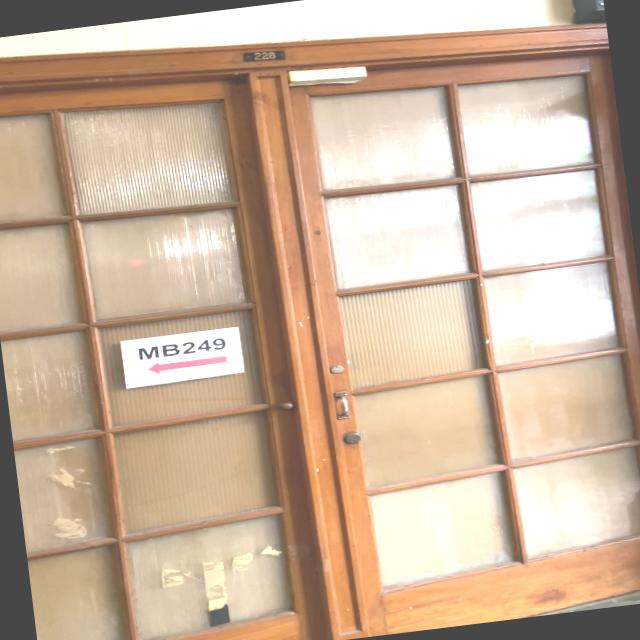room228: (238, 45, 290, 66)
